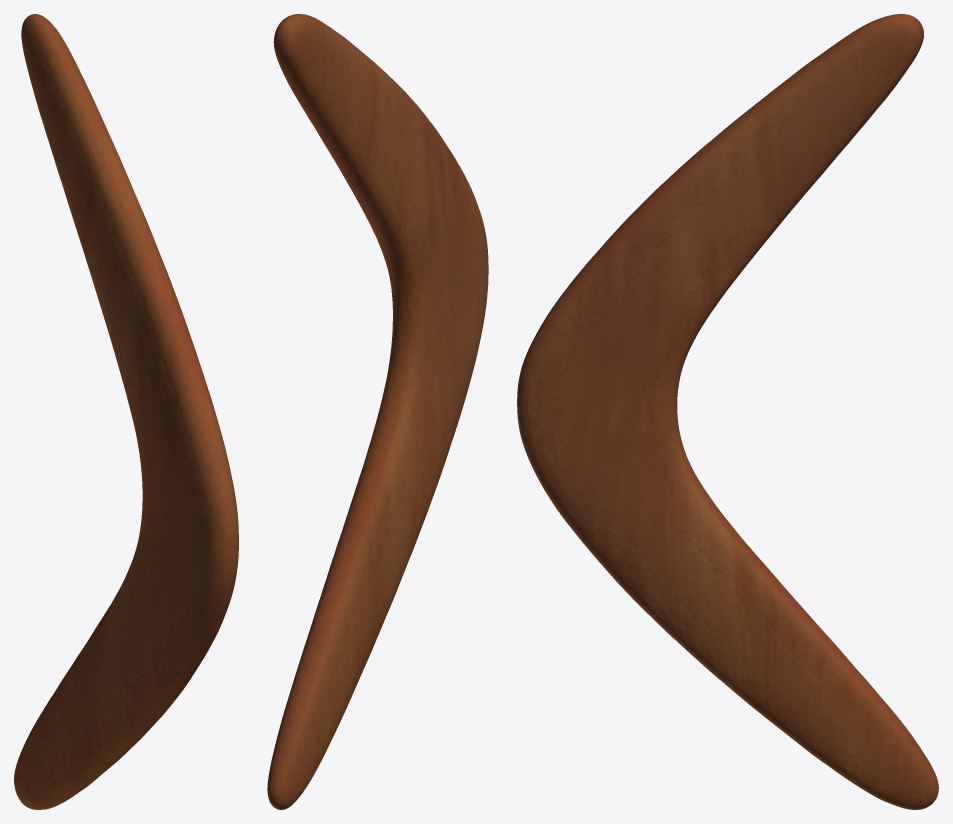
File: tripo_convert_af730b5c-57a3-4fd7-9d13-945f31ca53ac.fbx
3 views of the same model, side by side, from view 1: azimuth 30°, elevation 25°; view 2: azimuth 150°, elevation 25°; view 3: azimuth 270°, elevation 25° (orthographic).
Parts seen in each view (by area): view 1: tripo_node_af730b5c; view 2: tripo_node_af730b5c; view 3: tripo_node_af730b5c.
Boxes of the visible parts, <box> form: tripo_node_af730b5c: <box>14,14,238,809</box>; tripo_node_af730b5c: <box>267,14,488,809</box>; tripo_node_af730b5c: <box>517,14,938,809</box>.
Bounding box in the file's own units: 5.27 × 100 × 48.11.
Materials: 1 (1 with a texture image).
